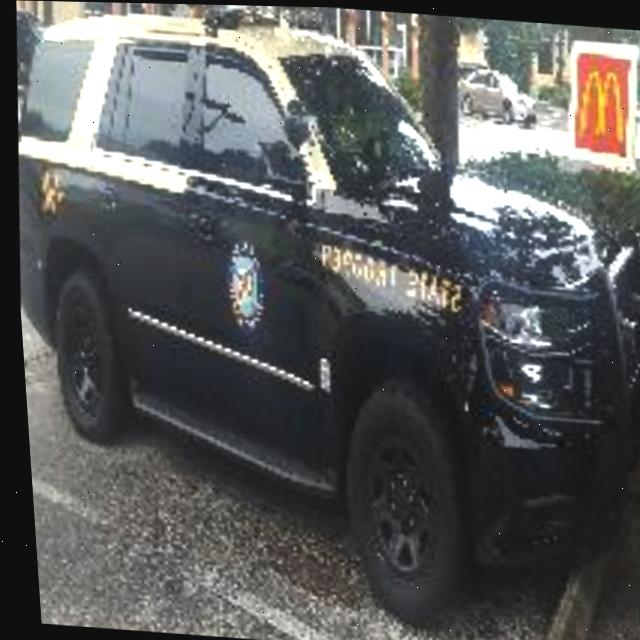emergency: (0, 0, 640, 593)
